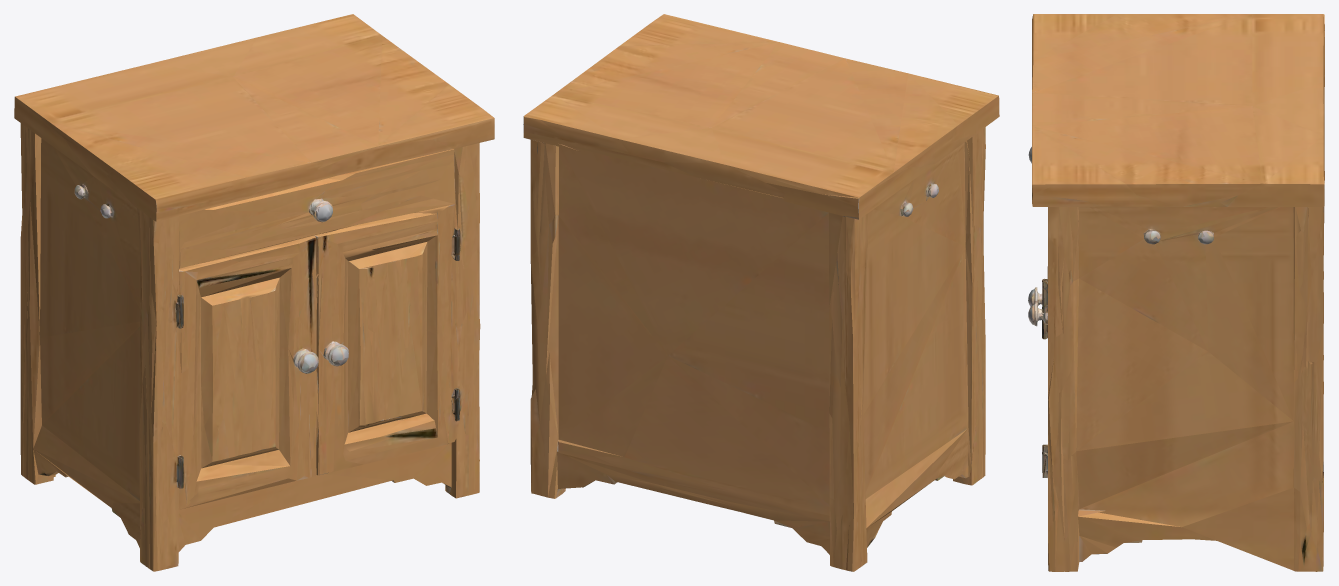
Rendered from kitchen_counter.glb.
3 renders of one model, left to right at view 1: azimuth 30°, elevation 25°; view 2: azimuth 150°, elevation 25°; view 3: azimuth 270°, elevation 25°, orthographic. The views are drawn at different scales.
Size of the model in its own units: 1.77 by 1.9 by 1.31.
Materials: 1 (1 with a texture image).
